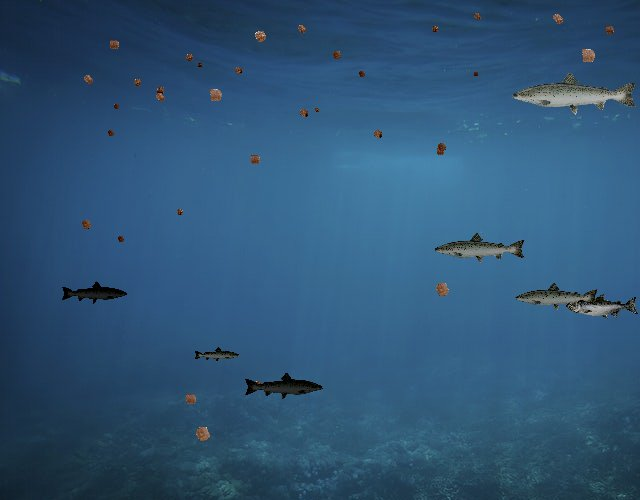Fish: (510, 70, 639, 116), (433, 231, 527, 265), (514, 281, 600, 312), (243, 372, 324, 401), (566, 293, 639, 320), (61, 280, 129, 305), (194, 347, 241, 364)
Pellet: (188, 418, 218, 448), (248, 24, 273, 49), (179, 388, 202, 411), (368, 124, 387, 143), (172, 205, 187, 220), (114, 232, 128, 246), (428, 22, 442, 36)
